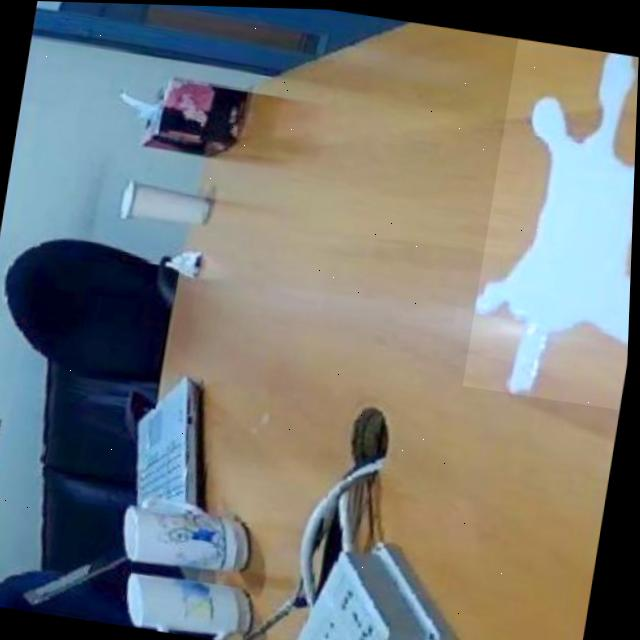spillage: (479, 48, 639, 389)
